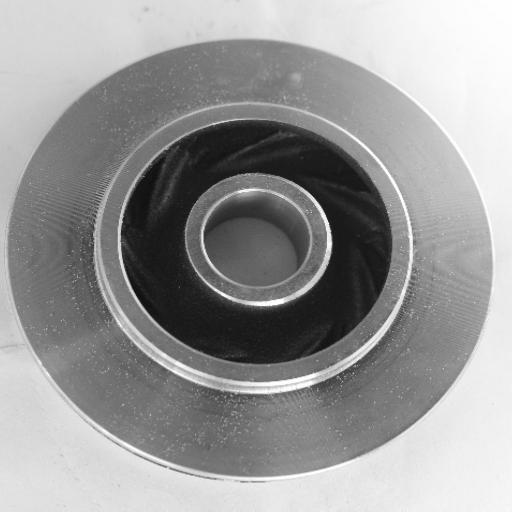polished_casting: (8, 35, 494, 486)
